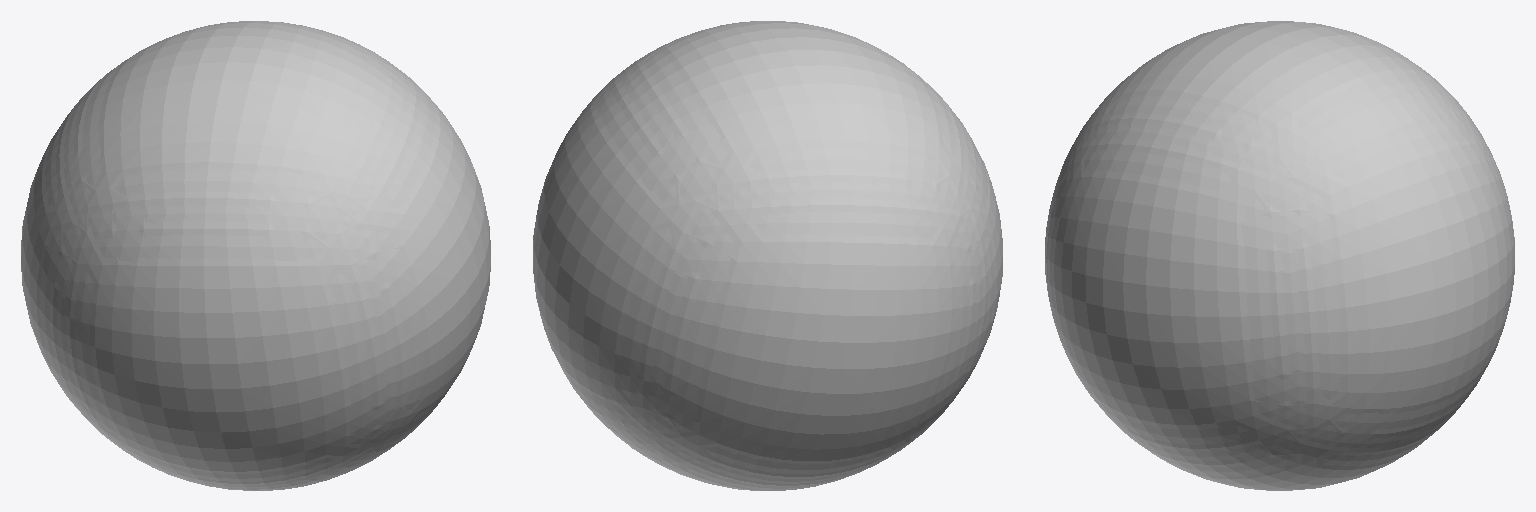
Rendered from ball.obj.
The picture shows the model from 3 angles: view 1: azimuth 30°, elevation 25°; view 2: azimuth 150°, elevation 25°; view 3: azimuth 270°, elevation 25°; orthographic projection.
Visible parts, largest first — view 1: Cube.001, Cube.002; view 2: Cube.001, Cube.002; view 3: Cube.001, Cube.002.
Boxes of the visible parts, box(x1,y1,x2,y2) form: Cube.001: box(21, 21, 490, 490); Cube.002: box(40, 21, 448, 490); Cube.001: box(533, 21, 1002, 490); Cube.002: box(561, 31, 994, 489); Cube.001: box(1045, 21, 1514, 490); Cube.002: box(1045, 58, 1514, 476).
Bounding box in the file's own units: 2.57 × 2.56 × 2.57.